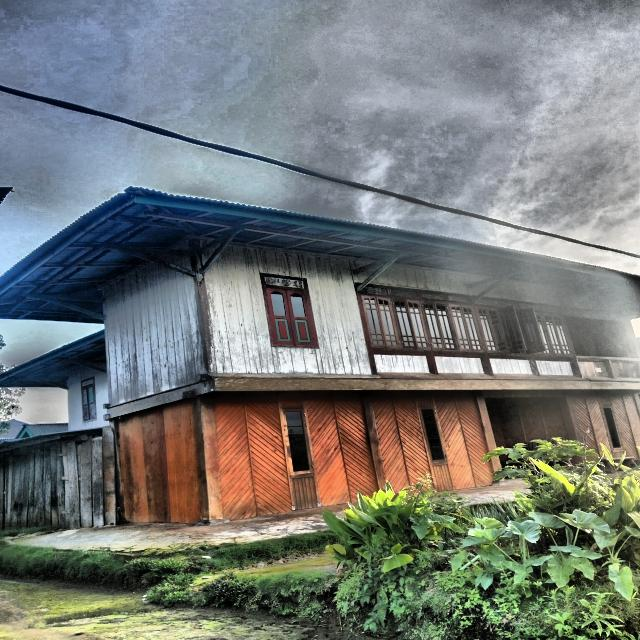ornamen: (373, 350, 436, 375), (433, 352, 491, 376), (488, 355, 538, 377), (534, 357, 579, 378), (577, 358, 614, 378)
roof: (0, 188, 640, 322), (0, 330, 106, 388)
wall: (204, 244, 373, 378), (213, 393, 379, 520), (360, 266, 493, 379), (102, 262, 206, 405), (371, 391, 495, 495), (117, 399, 200, 524), (476, 280, 580, 379), (571, 392, 640, 460), (66, 366, 109, 431), (83, 387, 96, 421)
window: (266, 287, 315, 346), (501, 305, 546, 354), (360, 295, 401, 348), (282, 409, 314, 475), (393, 298, 431, 349), (422, 301, 460, 351), (449, 304, 484, 351), (419, 407, 447, 463), (477, 306, 510, 353), (541, 313, 571, 355), (601, 406, 623, 450), (531, 313, 552, 354)
